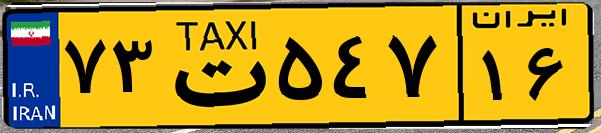1: (475, 38, 525, 113)
3: (110, 28, 158, 98)
4: (330, 28, 385, 110)
5: (270, 28, 330, 110)
6: (525, 38, 570, 115)
7: (385, 28, 445, 110), (57, 26, 110, 100)
ت: (158, 12, 270, 120)
